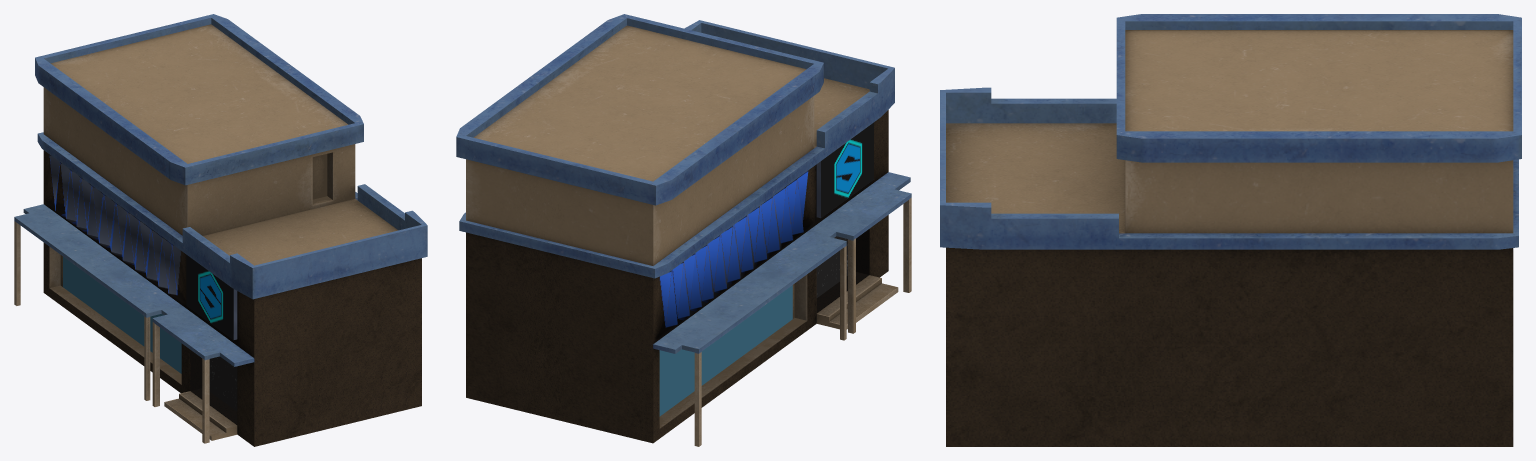
The model's file is ChaosZooCityMapTower05.fbx.
The picture shows the model from 3 angles, left to right: view 1: azimuth 30°, elevation 25°; view 2: azimuth 150°, elevation 25°; view 3: azimuth 270°, elevation 25°; orthographic projection. The views are drawn at different scales.
Visible parts, largest first — view 1: pCube7; view 2: pCube7; view 3: pCube7.
Part boxes in pixels (x1,y1,x2,y2): pCube7: [14, 14, 427, 446]; pCube7: [456, 14, 911, 446]; pCube7: [940, 14, 1521, 446].
Size of the model in its own units: 63.86 by 66.87 by 112.
